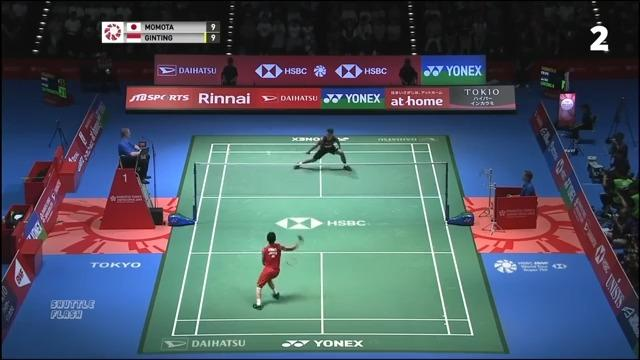Shuttlecock: (264, 148, 274, 158)
